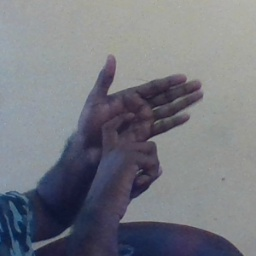R: (64, 52, 209, 197)
